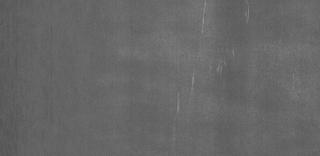silk spot: (171, 2, 261, 128)
